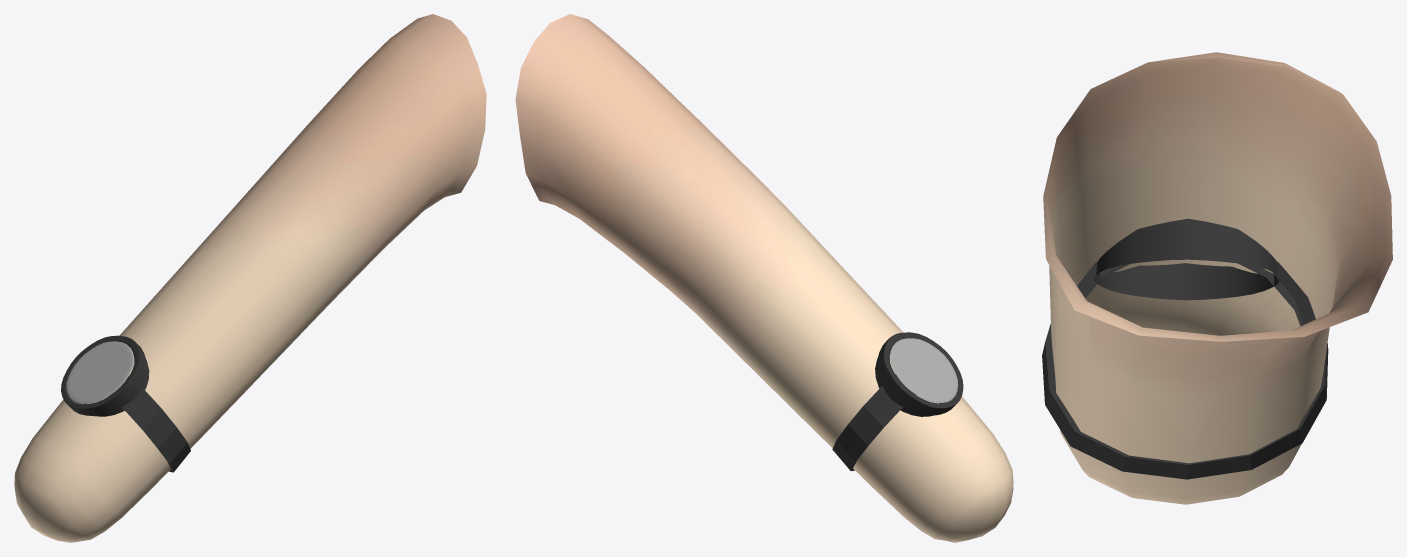
File: CH01_Player_FirstPerson_Left_V01.fbx
The picture shows the model from 3 angles, left to right: view 1: azimuth 30°, elevation 25°; view 2: azimuth 150°, elevation 25°; view 3: azimuth 270°, elevation 25°; orthographic projection. The views are drawn at different scales.
Visible parts, largest first — view 1: Arm_2, Watch_Screen, Watch_Frame, Watch_string; view 2: Arm_2, Watch_Screen, Watch_Frame, Watch_string; view 3: Arm_2, Watch_Frame, Watch_string.
Part boxes in pixels (box(x1,y1,x2,y2)): Arm_2: box(14, 14, 486, 542); Watch_Screen: box(66, 341, 133, 403); Watch_Frame: box(61, 335, 149, 416); Watch_string: box(109, 376, 190, 472); Arm_2: box(515, 14, 1013, 542); Watch_Screen: box(890, 338, 958, 402); Watch_Frame: box(875, 332, 963, 416); Watch_string: box(832, 374, 916, 470); Arm_2: box(1043, 52, 1392, 504); Watch_Frame: box(1094, 218, 1279, 300); Watch_string: box(1042, 261, 1328, 479).
Bounding box in the file's own units: 8.08 × 7.28 × 2.8.
